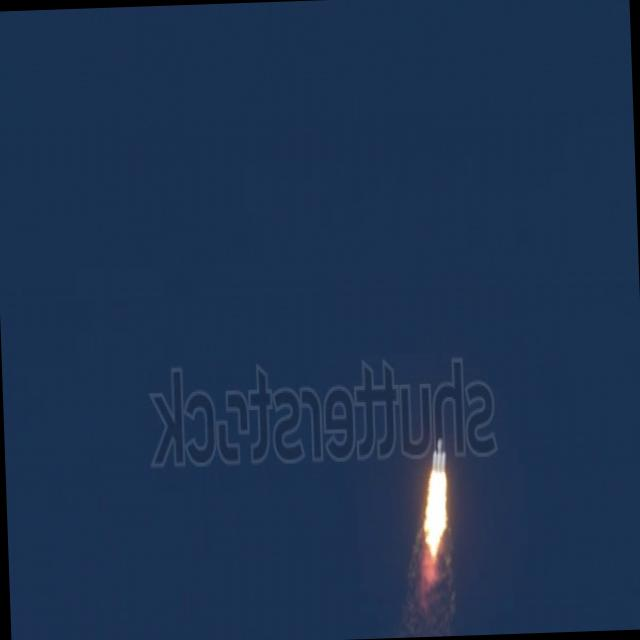rocket: (415, 441, 449, 557)
